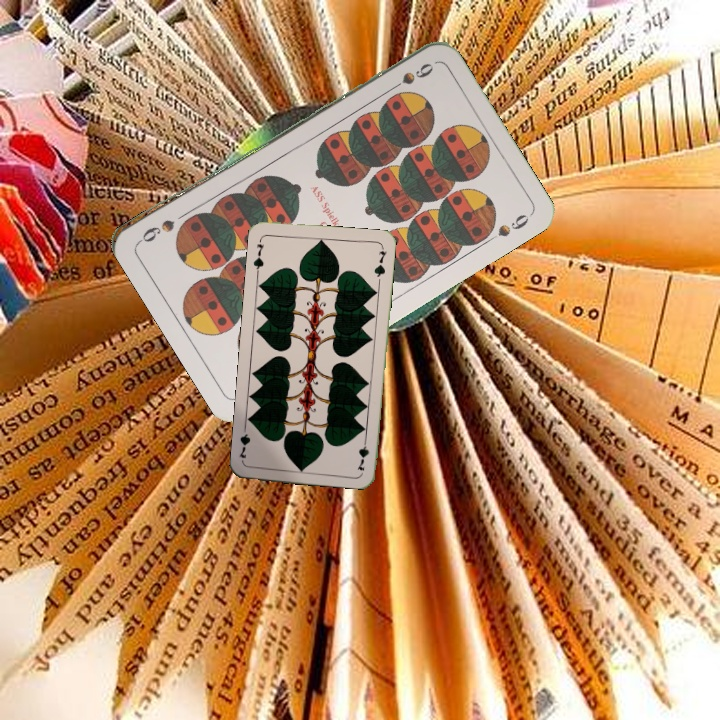G7: (354, 432, 372, 473), (249, 235, 267, 275)
S9: (383, 58, 435, 96)
